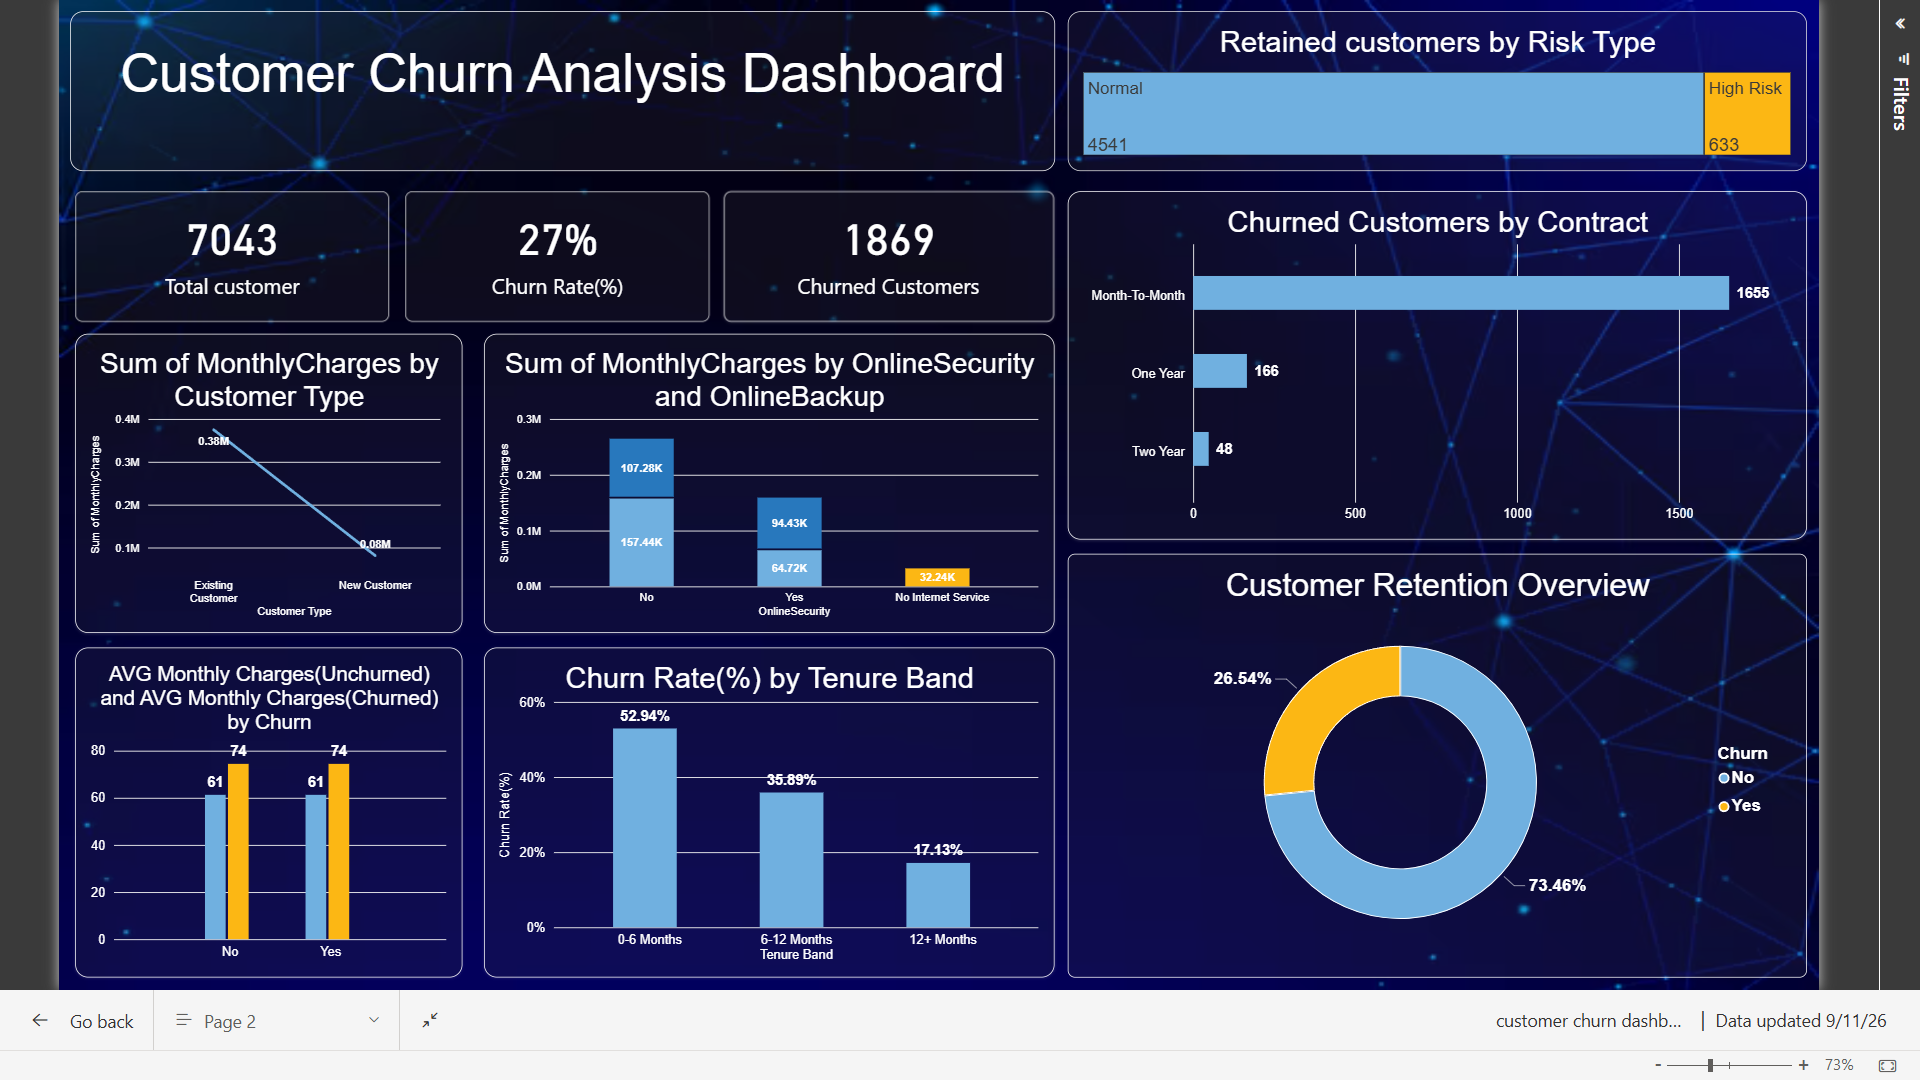

What the dashboard file says about the page in this screenshot:
{"tool":"powerbi","page":{"name":"Page 2","canvas":[1920,1080],"ordinal":0},"visuals":[{"type":"textbox","box":[12,12,1074,174],"z":0},{"type":"treemap","fields":{"Group":["telco_churn_unclean.Risk Type"],"Values":["calculated measure.retained customers"]},"box":[1100,12,806,174],"z":1000},{"type":"advanceCardE03760C5AB684758B56AA29F9E6C257B","fields":{"mainMeasure":["calculated measure.total customer"]},"box":[18,208,342,142],"z":2000},{"type":"advanceCardE03760C5AB684758B56AA29F9E6C257B","fields":{"mainMeasure":["calculated measure.Churn Rate(%)"]},"box":[378,208,332,142],"z":3000},{"type":"advanceCardE03760C5AB684758B56AA29F9E6C257B","fields":{"mainMeasure":["calculated measure.Churned Customers"]},"box":[726,208,360,142],"z":4000},{"type":"donutChart","title":"Customer Retention Overview","fields":{"Category":["telco_churn_unclean.Churn"],"Y":["calculated measure.total customer"]},"box":[1100,604,806,462],"z":5000},{"type":"barChart","fields":{"Category":["telco_churn_unclean.Contract"],"Y":["calculated measure.Churned Customers"]},"box":[1100,208,806,380],"z":6000},{"type":"columnChart","fields":{"Category":["telco_churn_unclean.OnlineSecurity"],"Series":["telco_churn_unclean.OnlineBackup"],"Y":["Sum(telco_churn_unclean.MonthlyCharges)"]},"box":[464,364,622,326],"z":7000},{"type":"clusteredColumnChart","fields":{"Category":["telco_churn_unclean.Tenure Band"],"Y":["calculated measure.Churn Rate(%)"]},"box":[464,706,622,360],"z":8000},{"type":"clusteredColumnChart","title":"AVG Monthly Charges(Unchurned) and AVG Monthly Charges(Churned) by Churn","fields":{"Category":["telco_churn_unclean.Churn"],"Y":["calculated measure.AVG Monthly Charges(Unchurned)","calculated measure.AVG Monthly Charges(Churned)"]},"box":[18,706,422,360],"z":9000},{"type":"lineChart","fields":{"Category":["telco_churn_unclean.Customer Type"],"Y":["Sum(telco_churn_unclean.MonthlyCharges)"]},"box":[18,364,422,326],"z":10000}]}

Visuals, with their boxes on the page's 1920x1080 design canvas (x1, y1, x2, y2). These are canvas units, not pixel positions in the 1920x1080 screenshot, which may show the page scaled, cropped or inside an application window:
textbox: box=[12, 12, 1086, 186]
treemap - telco_churn_unclean.Risk Type x calculated measure.retained customers: box=[1100, 12, 1906, 186]
advanceCardE03760C5AB684758B56AA29F9E6C257B - calculated measure.total customer: box=[18, 208, 360, 350]
advanceCardE03760C5AB684758B56AA29F9E6C257B - calculated measure.Churn Rate(%): box=[378, 208, 710, 350]
advanceCardE03760C5AB684758B56AA29F9E6C257B - calculated measure.Churned Customers: box=[726, 208, 1086, 350]
"Customer Retention Overview" donutChart: box=[1100, 604, 1906, 1066]
barChart - telco_churn_unclean.Contract x calculated measure.Churned Customers: box=[1100, 208, 1906, 588]
columnChart - telco_churn_unclean.OnlineSecurity x telco_churn_unclean.OnlineBackup: box=[464, 364, 1086, 690]
clusteredColumnChart - telco_churn_unclean.Tenure Band x calculated measure.Churn Rate(%): box=[464, 706, 1086, 1066]
"AVG Monthly Charges(Unchurned) and AVG Monthly Charges(Churned) by Churn" clusteredColumnChart: box=[18, 706, 440, 1066]
lineChart - telco_churn_unclean.Customer Type x Sum(telco_churn_unclean.MonthlyCharges): box=[18, 364, 440, 690]
